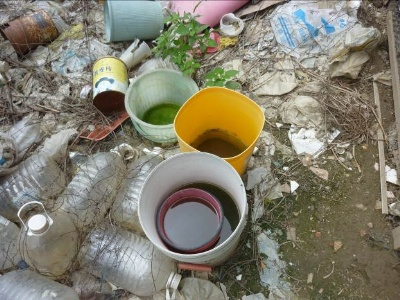bottle: (88, 56, 130, 113), (120, 38, 154, 71)
bowl: (157, 188, 224, 251)
bucket: (136, 151, 251, 271), (173, 84, 266, 175), (81, 217, 185, 296), (54, 141, 133, 221), (122, 69, 200, 146), (18, 198, 81, 280), (100, 1, 168, 45), (1, 11, 62, 58)
plastic_bag: (268, 1, 382, 81)
